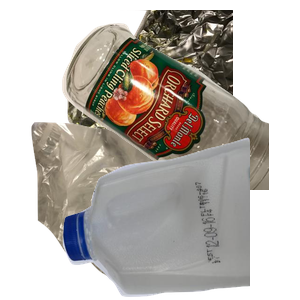glass: (60, 21, 300, 201)
metal: (60, 10, 300, 190)
plastic: (60, 135, 300, 300)
trash: (29, 120, 265, 300)
